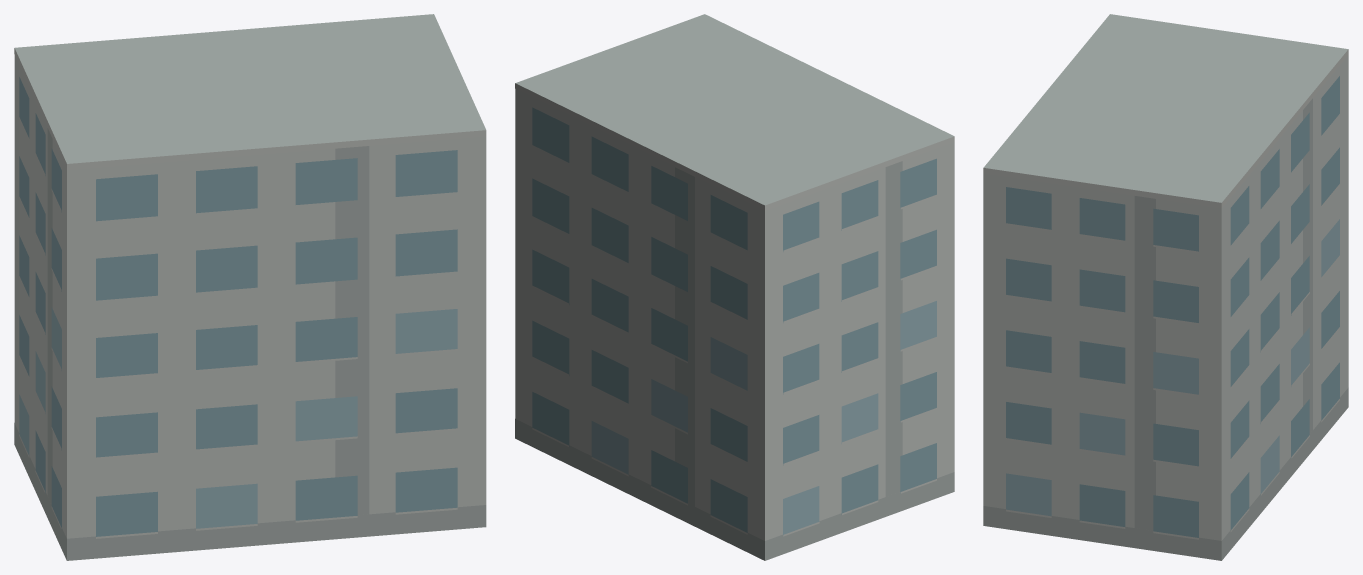
The model's file is residential-829c6a1e-80bf-4748-aaff-8a30afa062ae.glb.
3 views of the same model, side by side, from view 1: azimuth 30°, elevation 25°; view 2: azimuth 150°, elevation 25°; view 3: azimuth 270°, elevation 25° (orthographic). The views are drawn at different scales.
Visible parts, largest first — view 1: residential-829c6a1e-80bf-4748-aaff-8a30afa062ae.tmp; view 2: residential-829c6a1e-80bf-4748-aaff-8a30afa062ae.tmp; view 3: residential-829c6a1e-80bf-4748-aaff-8a30afa062ae.tmp.
Part boxes in pixels (<box>): residential-829c6a1e-80bf-4748-aaff-8a30afa062ae.tmp: <box>14,14,486,560</box>; residential-829c6a1e-80bf-4748-aaff-8a30afa062ae.tmp: <box>515,14,954,560</box>; residential-829c6a1e-80bf-4748-aaff-8a30afa062ae.tmp: <box>983,14,1348,560</box>.
Size of the model in its own units: 17.26 by 15.25 by 14.1.
